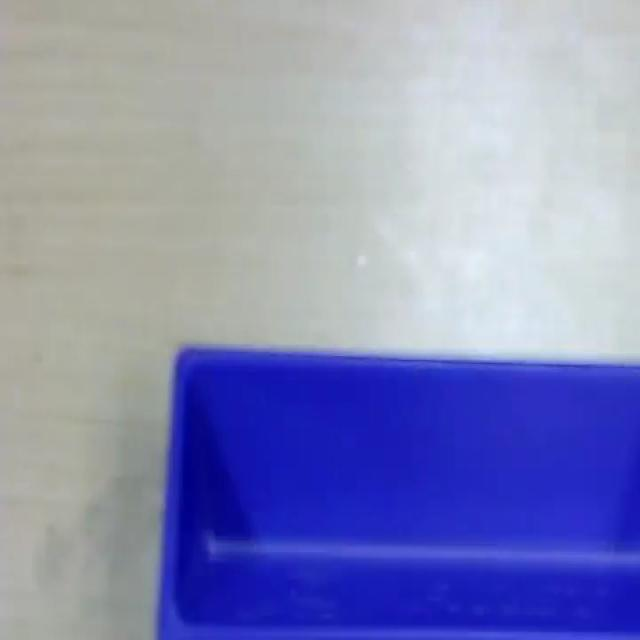blue_block: (157, 342, 638, 638)
